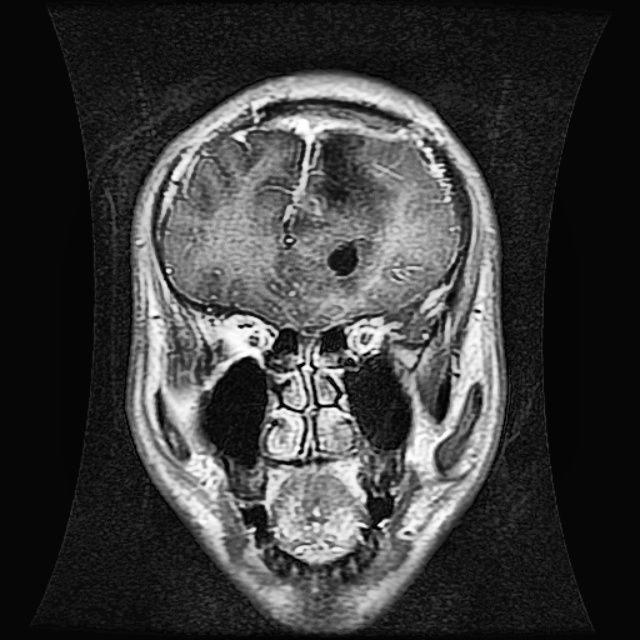Meningioma: (307, 129, 378, 202)
